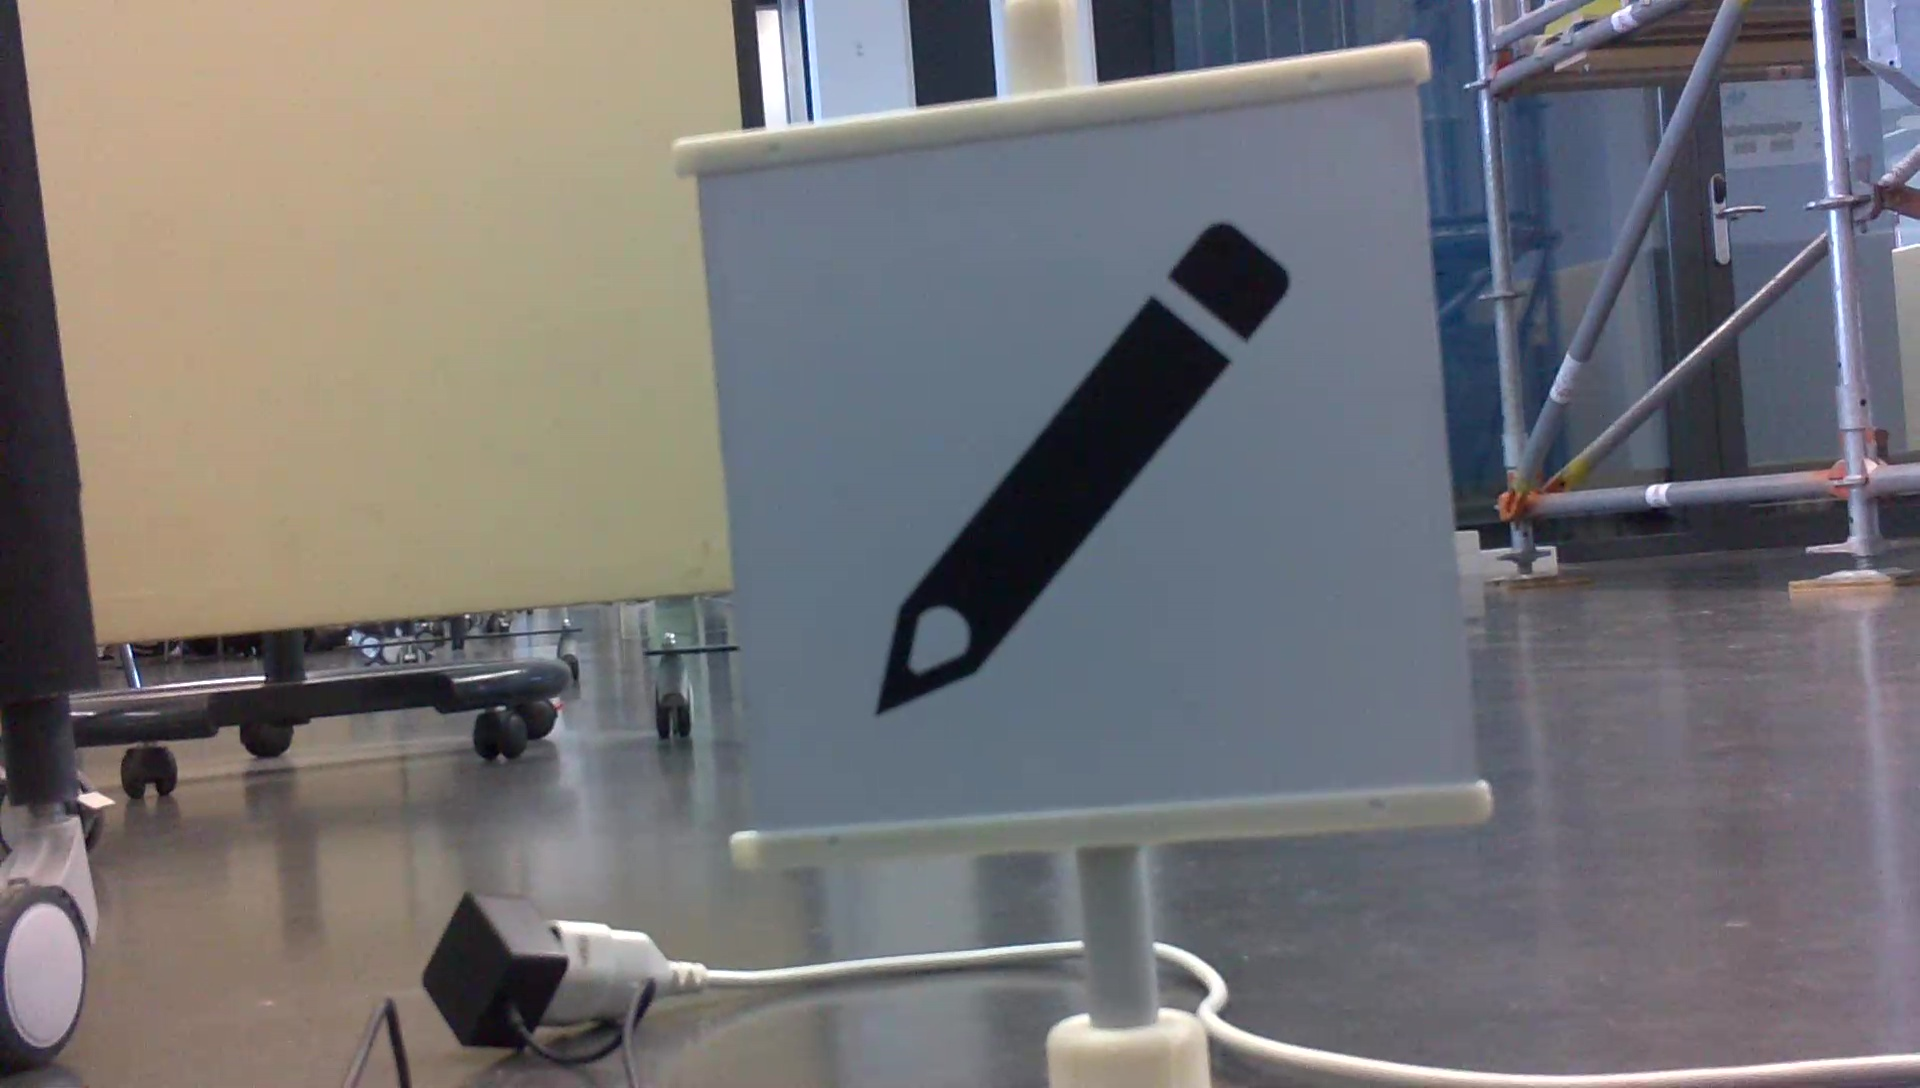pencil: (853, 194, 1309, 729)
